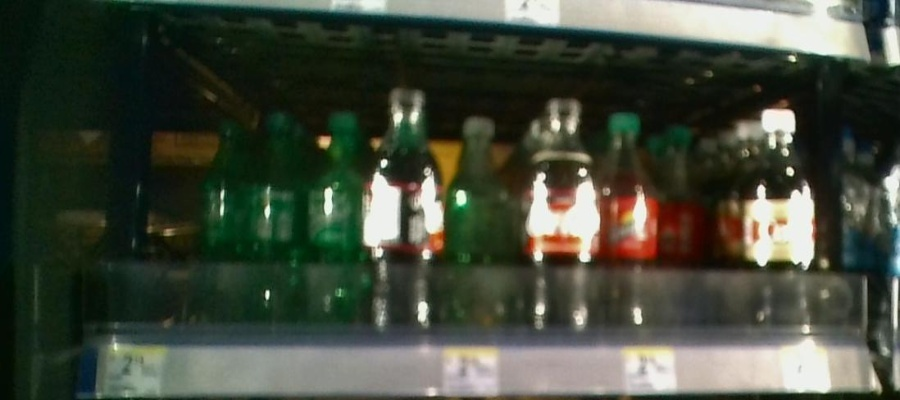bottle: (363, 89, 435, 338), (524, 96, 597, 334), (743, 100, 817, 334), (444, 110, 513, 328), (600, 96, 658, 333), (305, 114, 363, 324), (659, 115, 707, 334), (202, 112, 251, 317), (255, 111, 302, 322)
